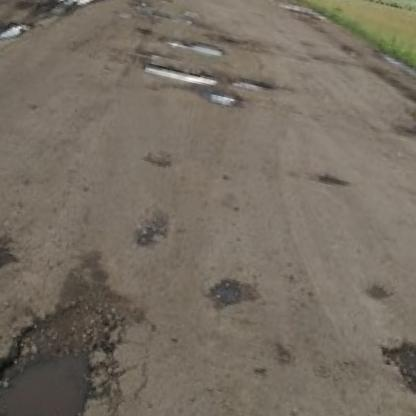pothole: (0, 283, 125, 416), (366, 332, 416, 416), (140, 60, 217, 90), (158, 33, 223, 59), (206, 273, 244, 311), (0, 14, 32, 44), (232, 73, 273, 95), (207, 89, 239, 109), (318, 171, 349, 189), (149, 10, 171, 21), (131, 0, 150, 11)
